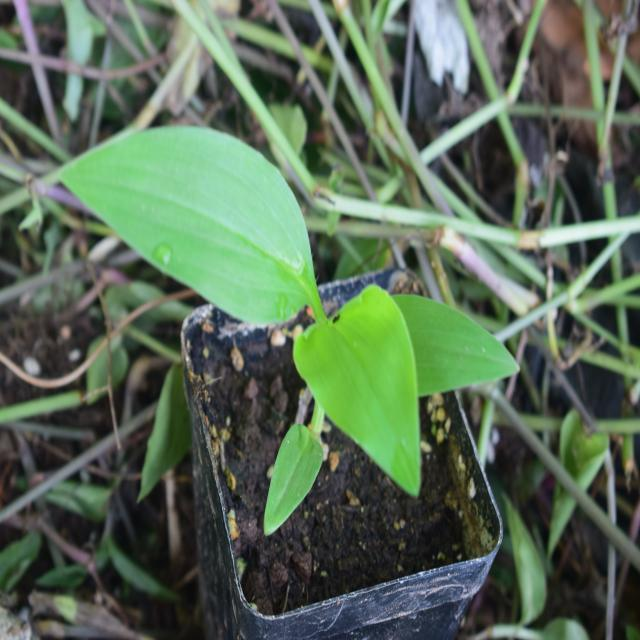Common Dayflower: (63, 114, 518, 480)
